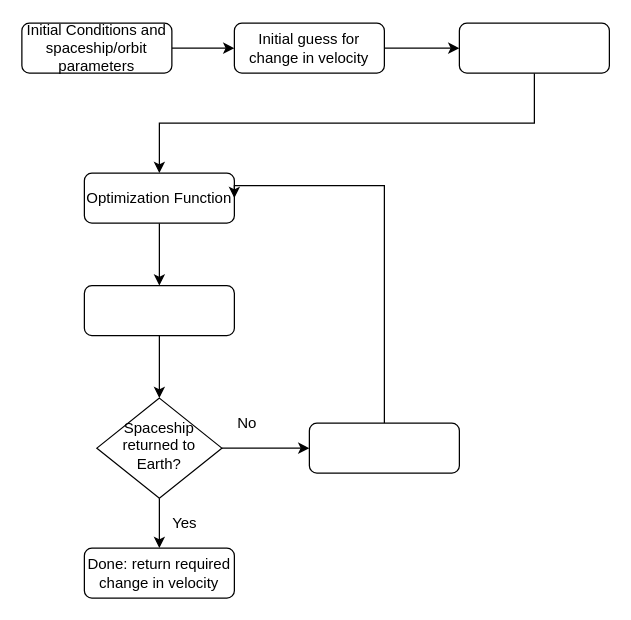
Image size: 631x620. Some labels were removed from this diagram. The shapes that lost their labels are listed below. From the top down, each one's centre as x and y in pixels, then its label:
At (533,47): "Grid search to narrow down guess".
At (158,310): "Integrate with ODE".
At (383,447): "Iterate the change in velocity".
